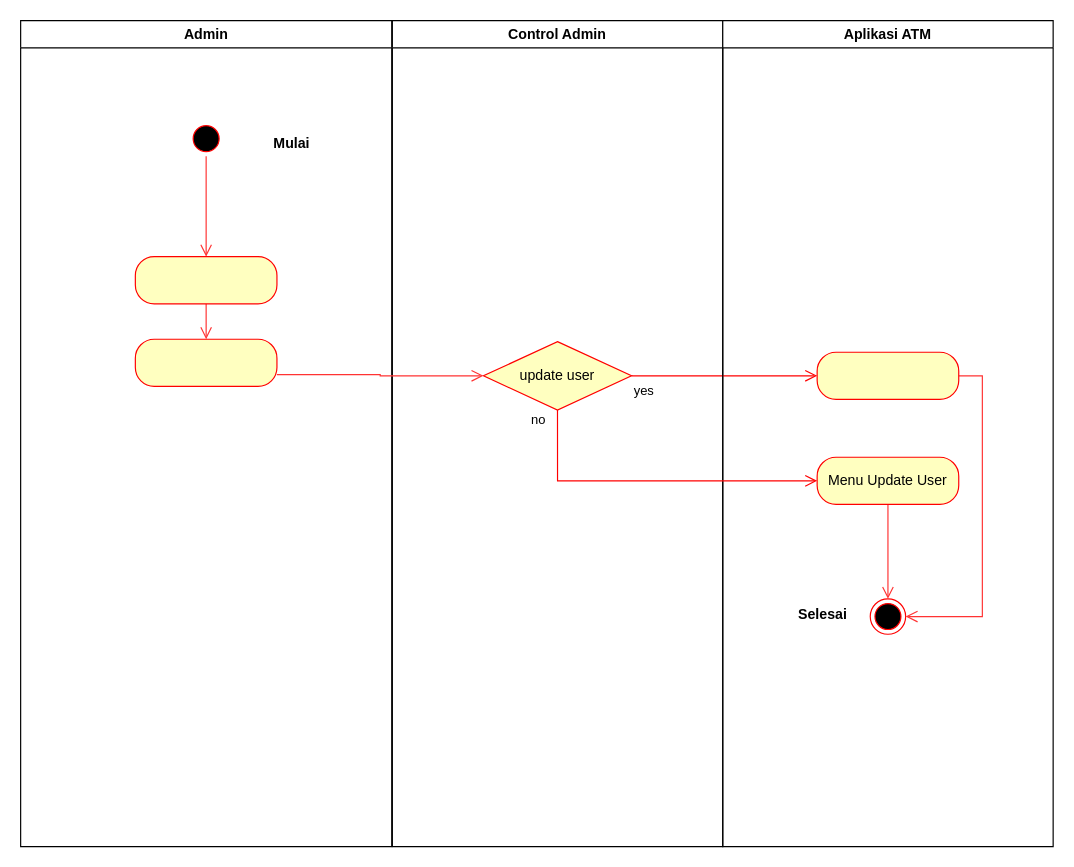
Some shapes in this 1074 by 867 pixel diagram are drawn without their labels. The shapes that lost their labels are listed below. From the top down, each one's centre as x and y in pixels, then its label:
the point at 205,279: Masukkan NPP
the point at 205,362: Ubah level user
the point at 887,375: Simpan Data
